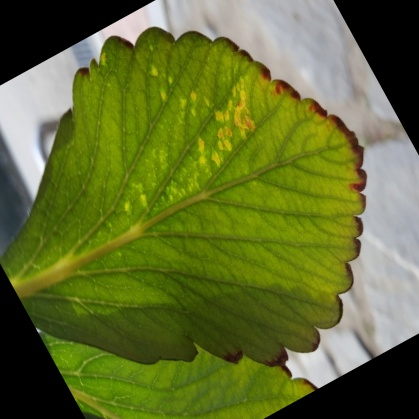Angular_LS: (121, 20, 312, 206)
